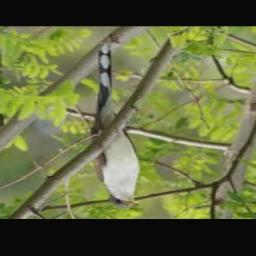Cuckoo: (91, 43, 142, 207)
